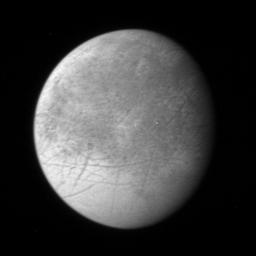planet: (33, 25, 219, 234)
